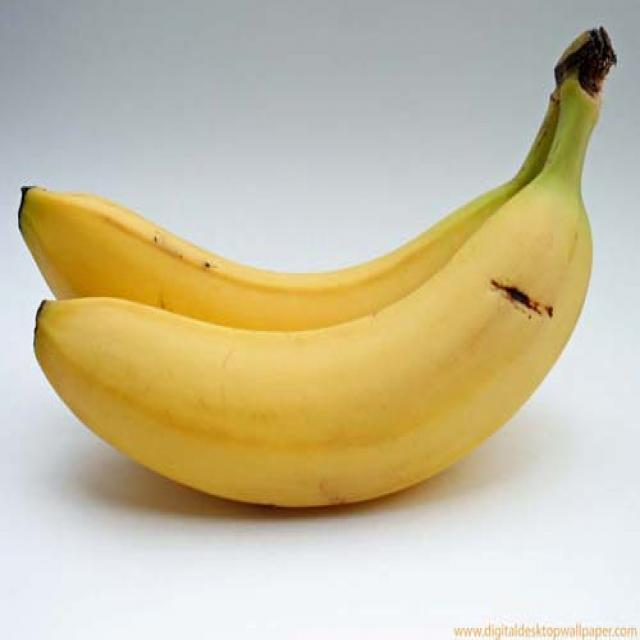Banana: (19, 27, 618, 516)
